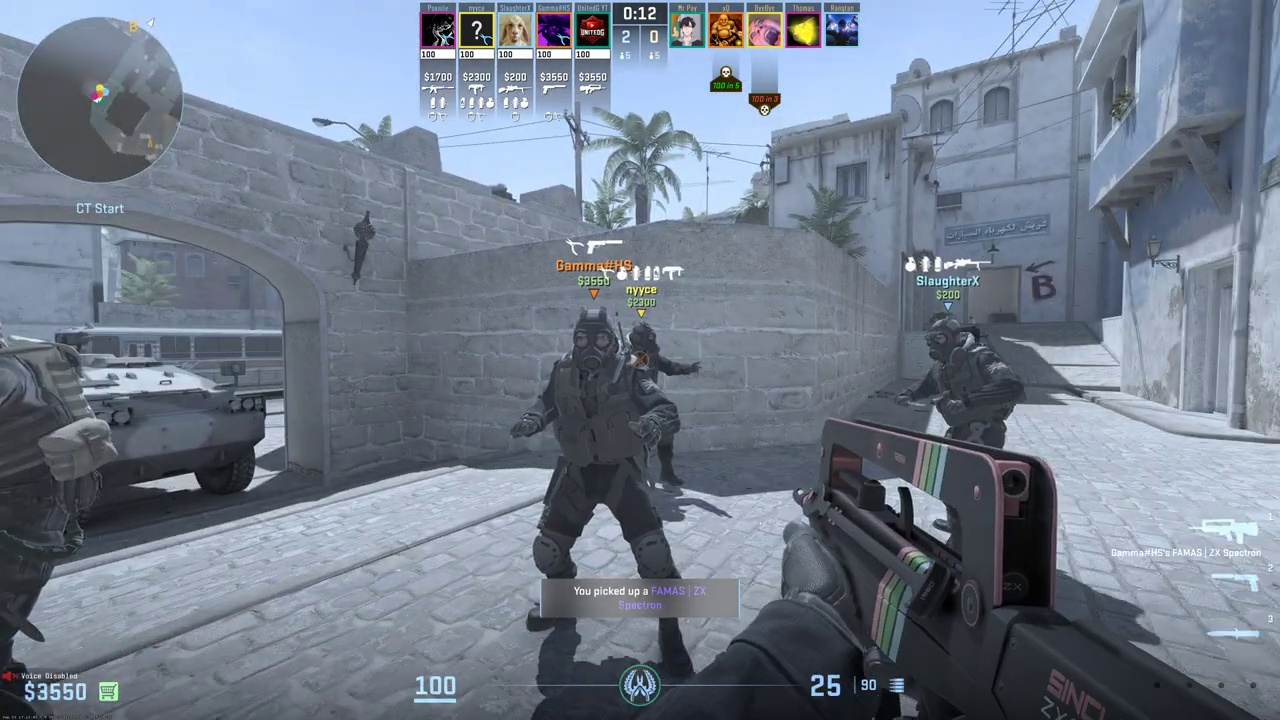CT: (531, 311, 677, 676), (0, 325, 118, 719), (925, 318, 1011, 450), (619, 322, 684, 481)
